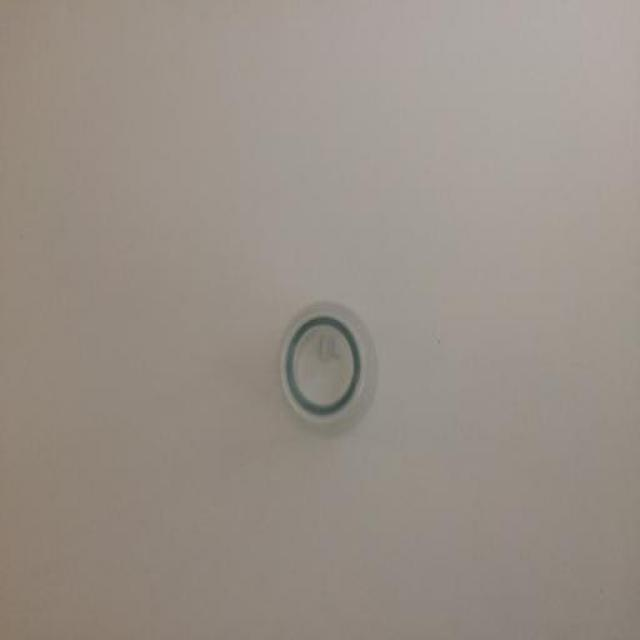Waste: (282, 303, 376, 424)
